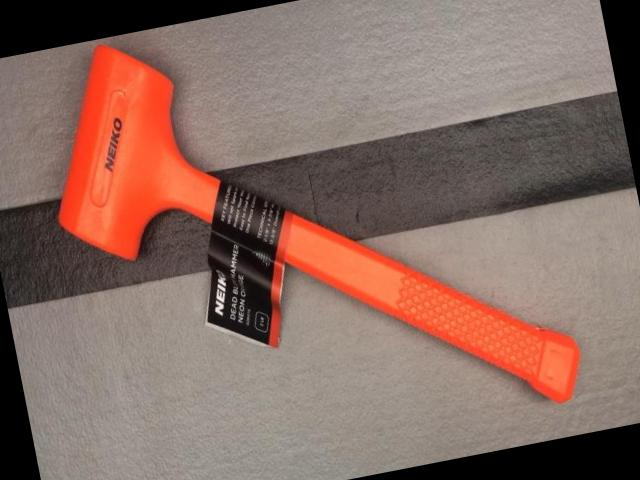hammer: (25, 0, 585, 480)
